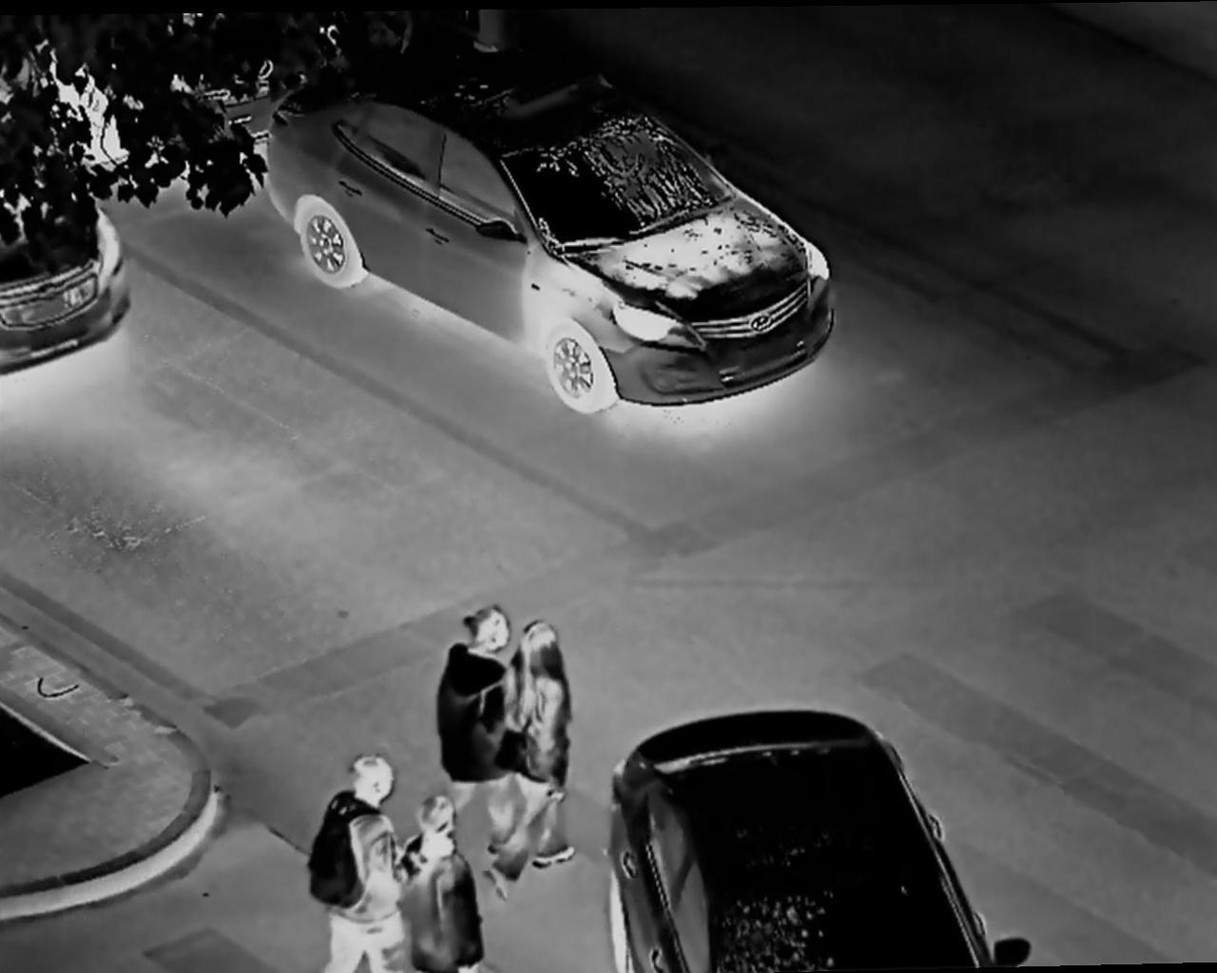person: (435, 603, 520, 877), (306, 750, 406, 973), (501, 623, 585, 883), (406, 791, 484, 973)
